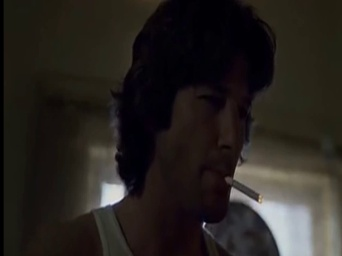smoke: (225, 174, 263, 203)
